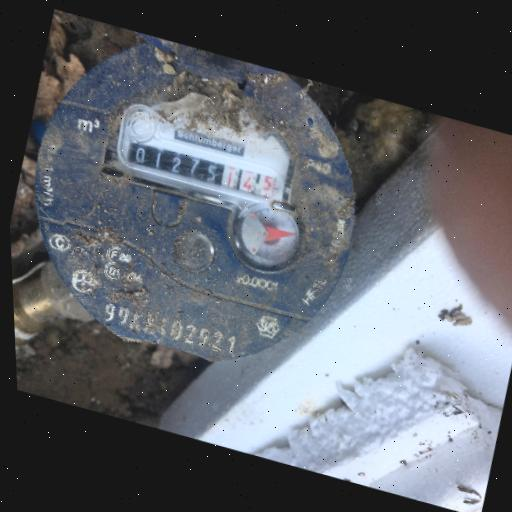0: (130, 141, 154, 168)
1: (219, 164, 244, 192), (147, 146, 172, 173)
2: (164, 150, 190, 177)
4: (237, 168, 261, 196)
5: (201, 160, 226, 187), (253, 174, 276, 199)
7: (183, 155, 208, 182)
border_water_meter_number: (124, 130, 283, 204)
